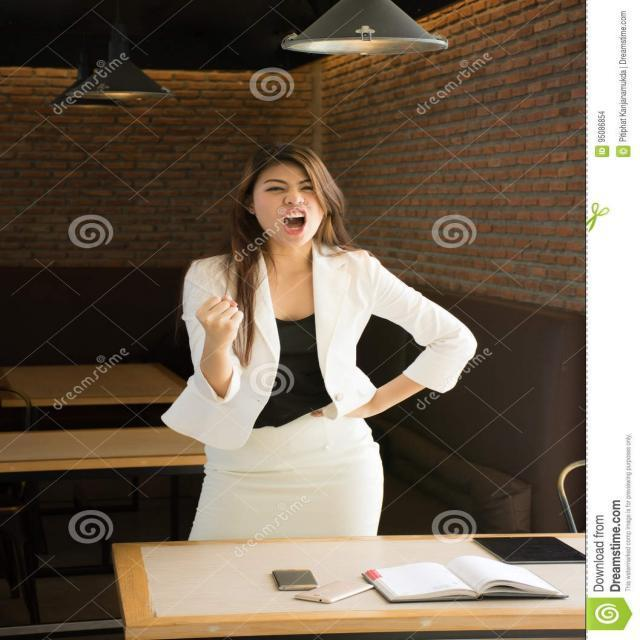walking: (150, 146, 478, 546)
